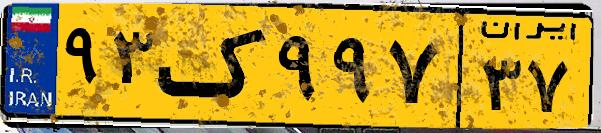3: (475, 38, 525, 113), (110, 28, 158, 98)
7: (385, 28, 445, 110), (525, 38, 570, 115)
9: (270, 28, 330, 110), (330, 28, 385, 110), (57, 26, 110, 100)
ک: (158, 12, 270, 120)
